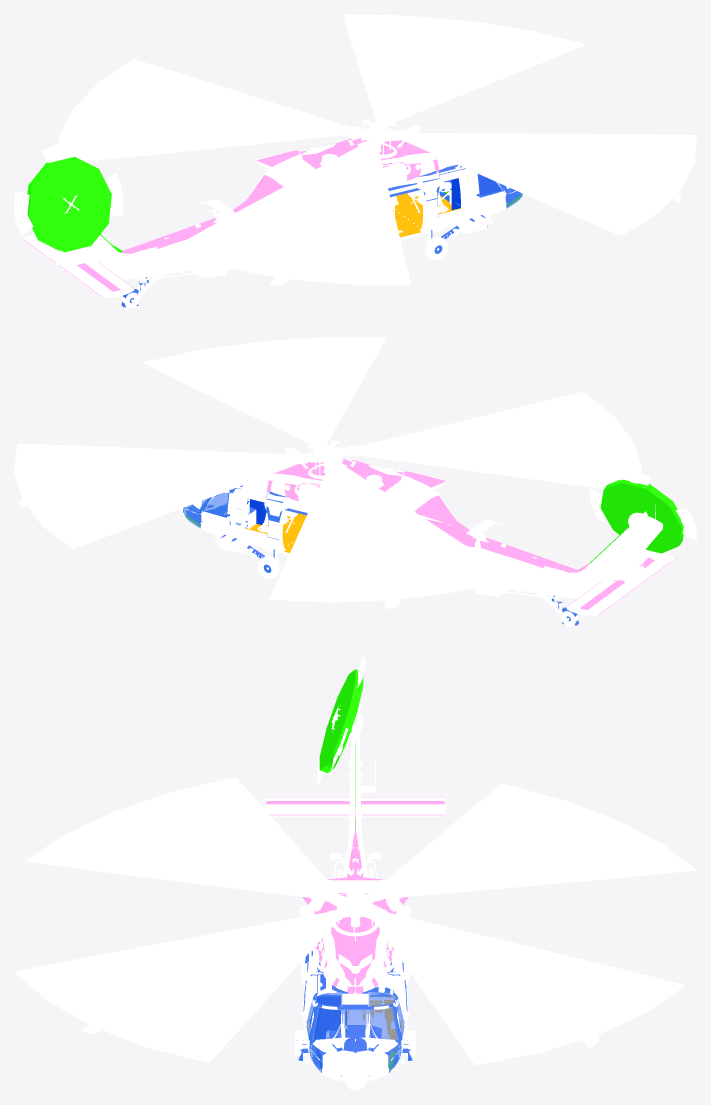
3 renders of one model, top to bottom at view 1: azimuth 30°, elevation 25°; view 2: azimuth 150°, elevation 25°; view 3: azimuth 270°, elevation 25°, orthographic. The views are drawn at different scales.
Visible parts, largest first — view 1: Heli7_4, Heli7, Heli7_5, UH60M_Engine_Tail_122, UH60M_Col, Heli7_7, UH60M_Col_2, UH60M_Col_1, Heli7_1, UH60M_Nopenetration_Col_128, UH60M_Col_4; view 2: Heli7_4, Heli7, Heli7_5, UH60M_Col, UH60M_Engine_Tail_122, Heli7_7, UH60M_Col_1, Heli7_1, UH60M_Col_4, UH60M_Col_2; view 3: Heli7_4, Heli7, Heli7_5, UH60M_Col, UH60M_Col_4, UH60M_Col_1, UH60M_Engine_Tail_122, Heli7_7, Heli7_1, UH60M_Nopenetration_Col_128.
Boxes of the visible parts, x1,y1,x2,y2 form: Heli7_4: [14, 14, 696, 284]; Heli7: [22, 112, 523, 308]; Heli7_5: [86, 25, 681, 285]; UH60M_Engine_Tail_122: [27, 157, 122, 252]; UH60M_Col: [22, 138, 439, 296]; Heli7_7: [135, 126, 447, 280]; UH60M_Col_2: [393, 193, 460, 237]; UH60M_Col_1: [121, 164, 520, 307]; Heli7_1: [390, 179, 522, 237]; UH60M_Nopenetration_Col_128: [451, 174, 501, 209]; UH60M_Col_4: [478, 174, 522, 208]; Heli7_4: [14, 337, 696, 602]; Heli7: [181, 434, 676, 626]; Heli7_5: [19, 347, 617, 608]; UH60M_Col: [266, 457, 676, 615]; UH60M_Engine_Tail_122: [590, 479, 683, 563]; Heli7_7: [255, 447, 621, 599]; UH60M_Col_1: [183, 485, 578, 625]; Heli7_1: [184, 492, 297, 553]; UH60M_Col_4: [183, 492, 241, 528]; UH60M_Col_2: [245, 513, 306, 552]; Heli7_4: [14, 655, 696, 1065]; Heli7: [265, 700, 445, 1081]; Heli7_5: [82, 817, 603, 1047]; UH60M_Col: [266, 740, 444, 993]; UH60M_Col_4: [306, 992, 404, 1072]; UH60M_Col_1: [297, 951, 412, 1076]; UH60M_Engine_Tail_122: [319, 669, 363, 829]; Heli7_7: [299, 759, 411, 1090]; Heli7_1: [303, 956, 407, 1070]; UH60M_Nopenetration_Col_128: [310, 997, 346, 1069].
Size of the model in its own units: 20.13 by 5.48 by 16.78.
